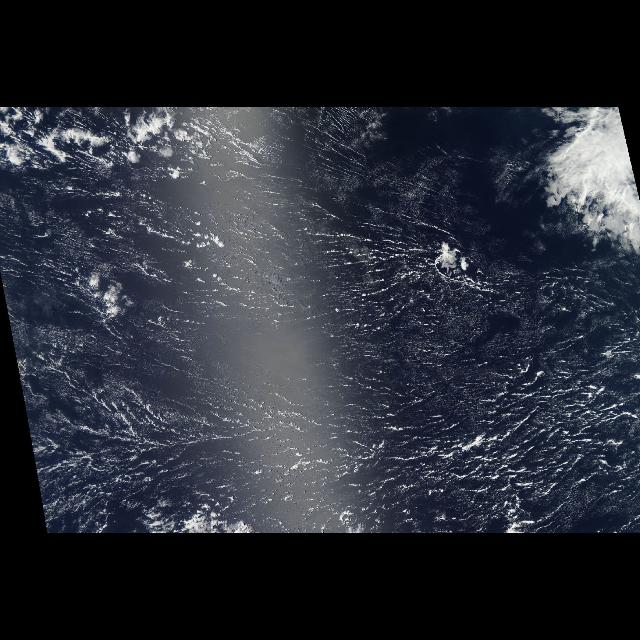Sugar: (400, 290, 620, 514)
